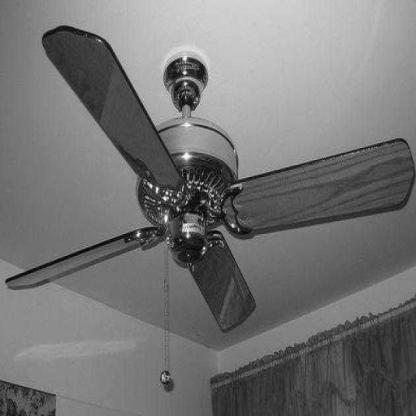ceiling-fan: (3, 24, 415, 332)
